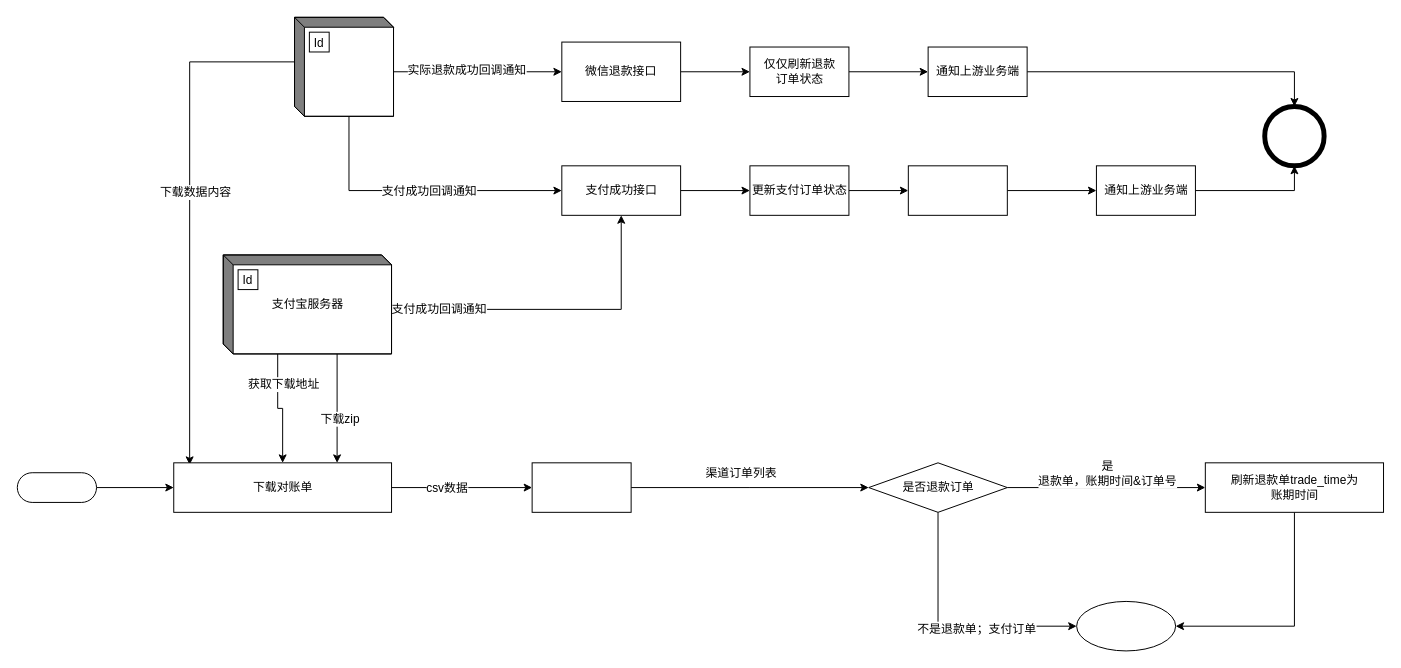
This 1401x668 diagram has some shape labels left out. The shapes that lost their labels are listed below. From the top down, each one's centre as x and y in pixels, then its label:
At (x=344, y=66): "微信服务器".
At (x=957, y=190): "更新支付交易时间".
At (x=56, y=487): "开始日对账".
At (x=581, y=487): "分析CSV格式文件".
At (x=1126, y=625): "对账流程".
